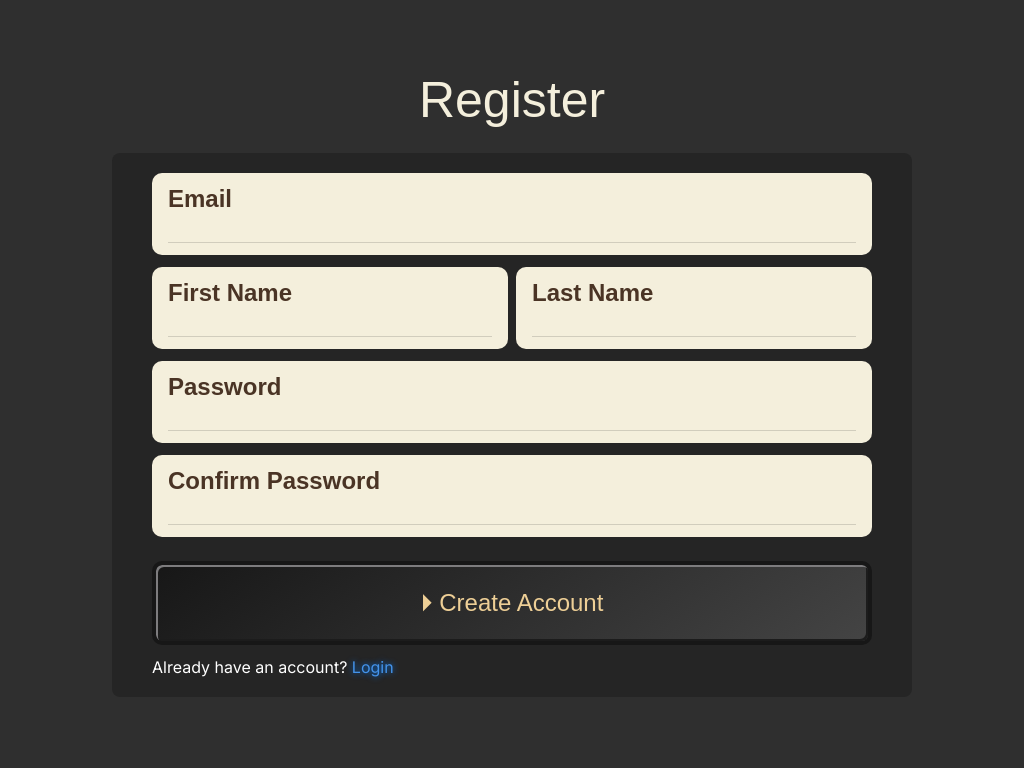
RegisterPage › shows validation errors on empty submit
The width and height of the screenshot is (1024, 768).
Click the button "⏵ Create Account" at (512, 603), box [152,561,872,645]
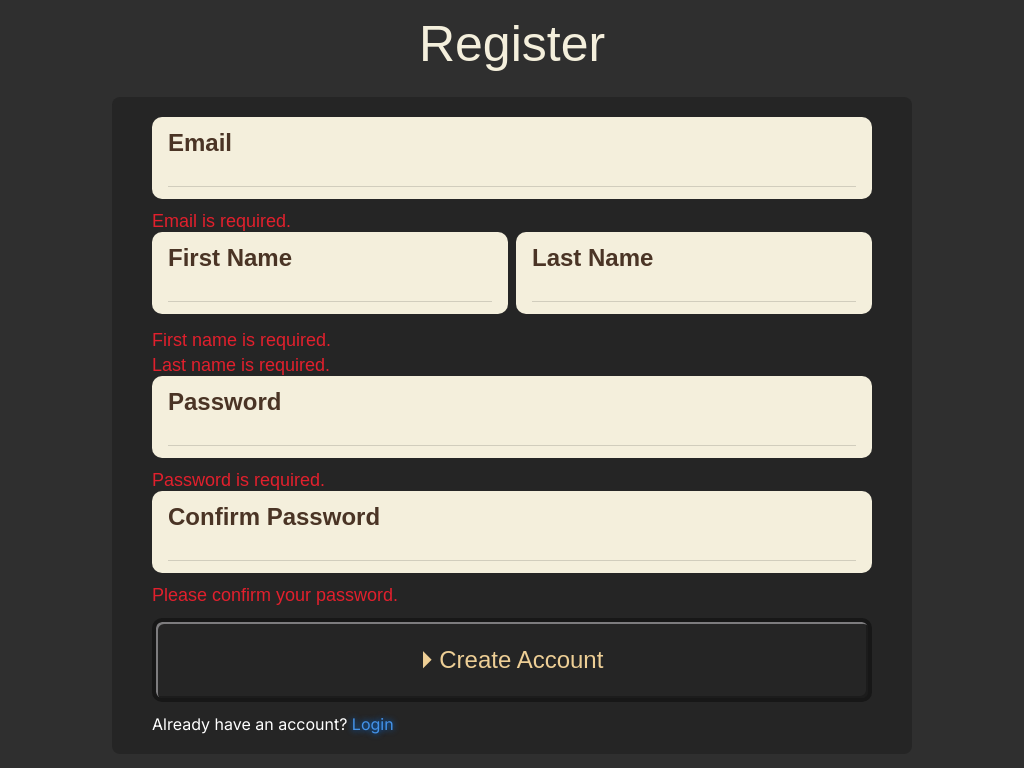
Check: the text "Email is required." is shown, box [152,210,291,230]
Check: the text "First name is required." is shown, box [152,330,331,350]
Check: the text "Password is required." is shown, box [152,470,325,490]
